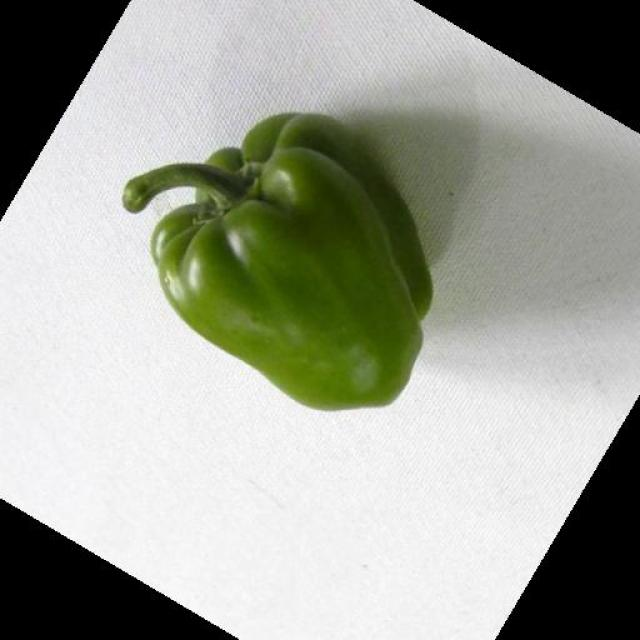Fresh_Capsicum: (146, 116, 465, 404)
